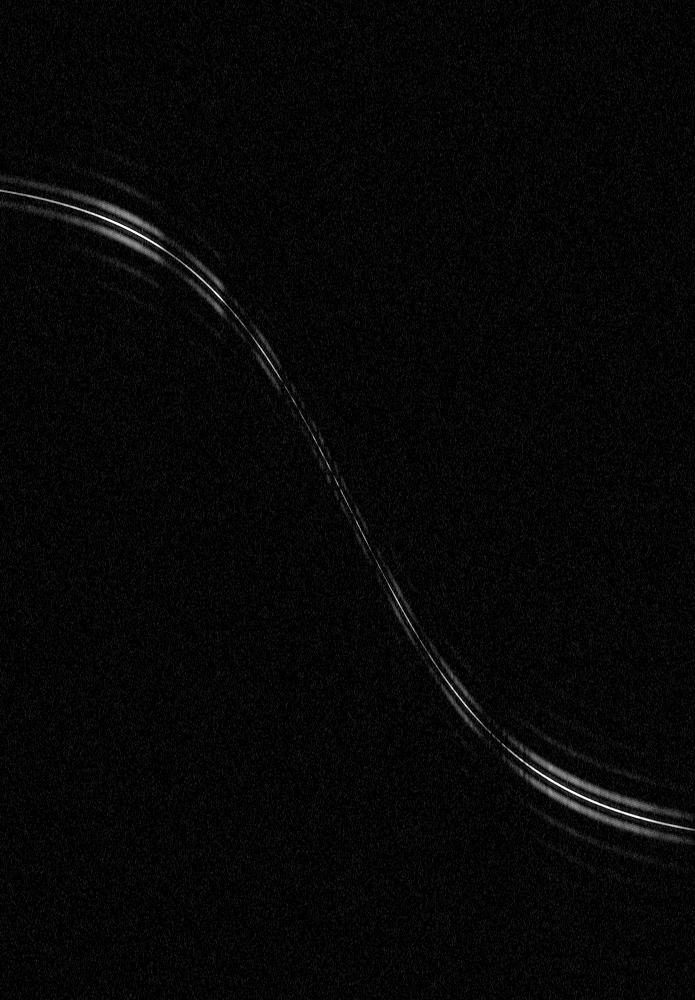signal: (0, 0, 694, 999)
